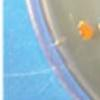orange: (76, 20, 92, 42)
